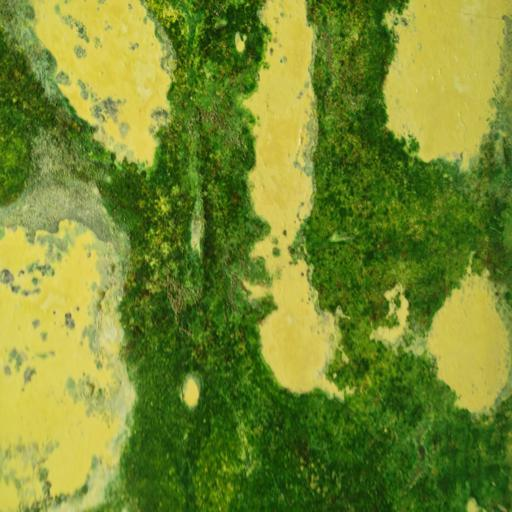algae: (3, 0, 512, 512)
